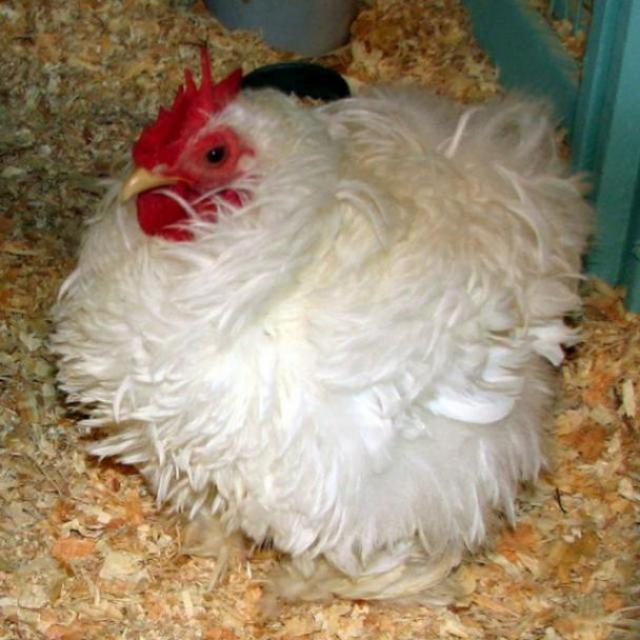Chicken: (48, 62, 614, 617)
